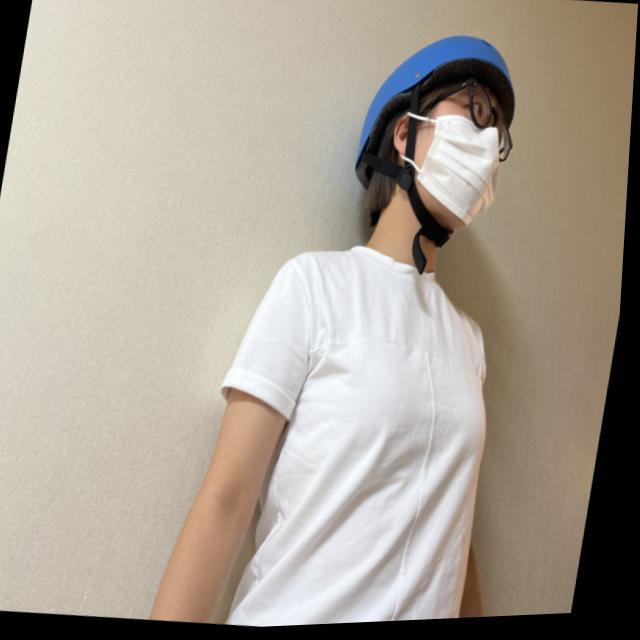Helmet: (330, 22, 531, 249)
